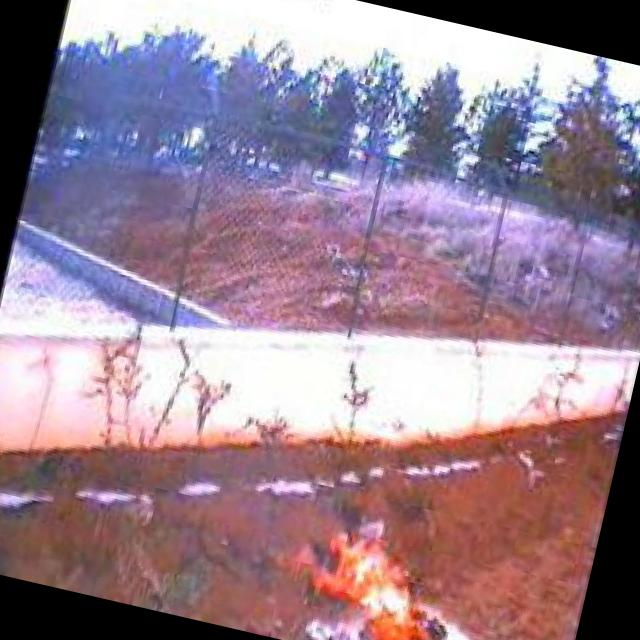Fire: (268, 507, 472, 640)
